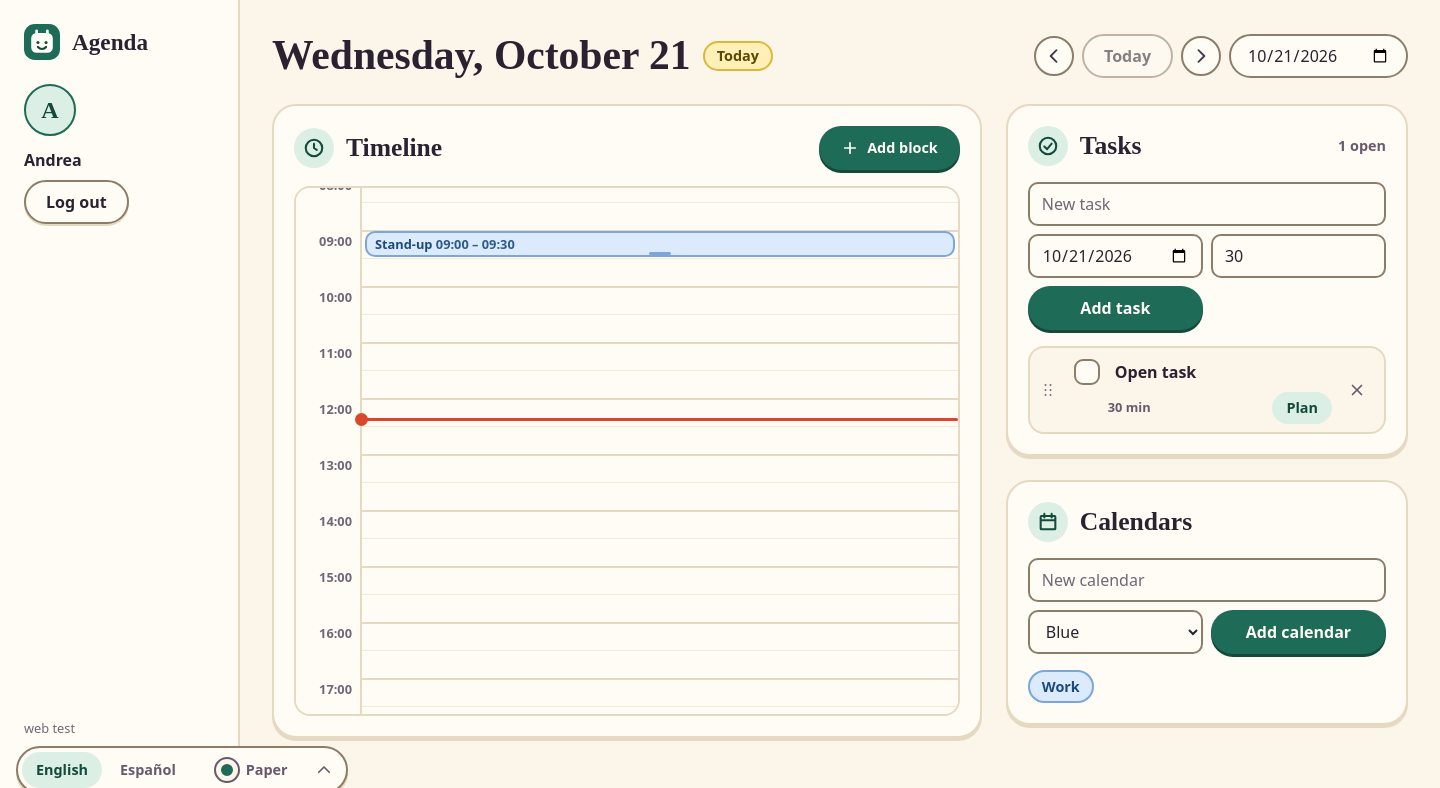
a block leaving › also does when it is deleted from the details panel, and says so
(page scrolled)
Step 1. Click the button "Stand-up 09:00 – 09:30" → (404, 244), box [365,231,955,257]
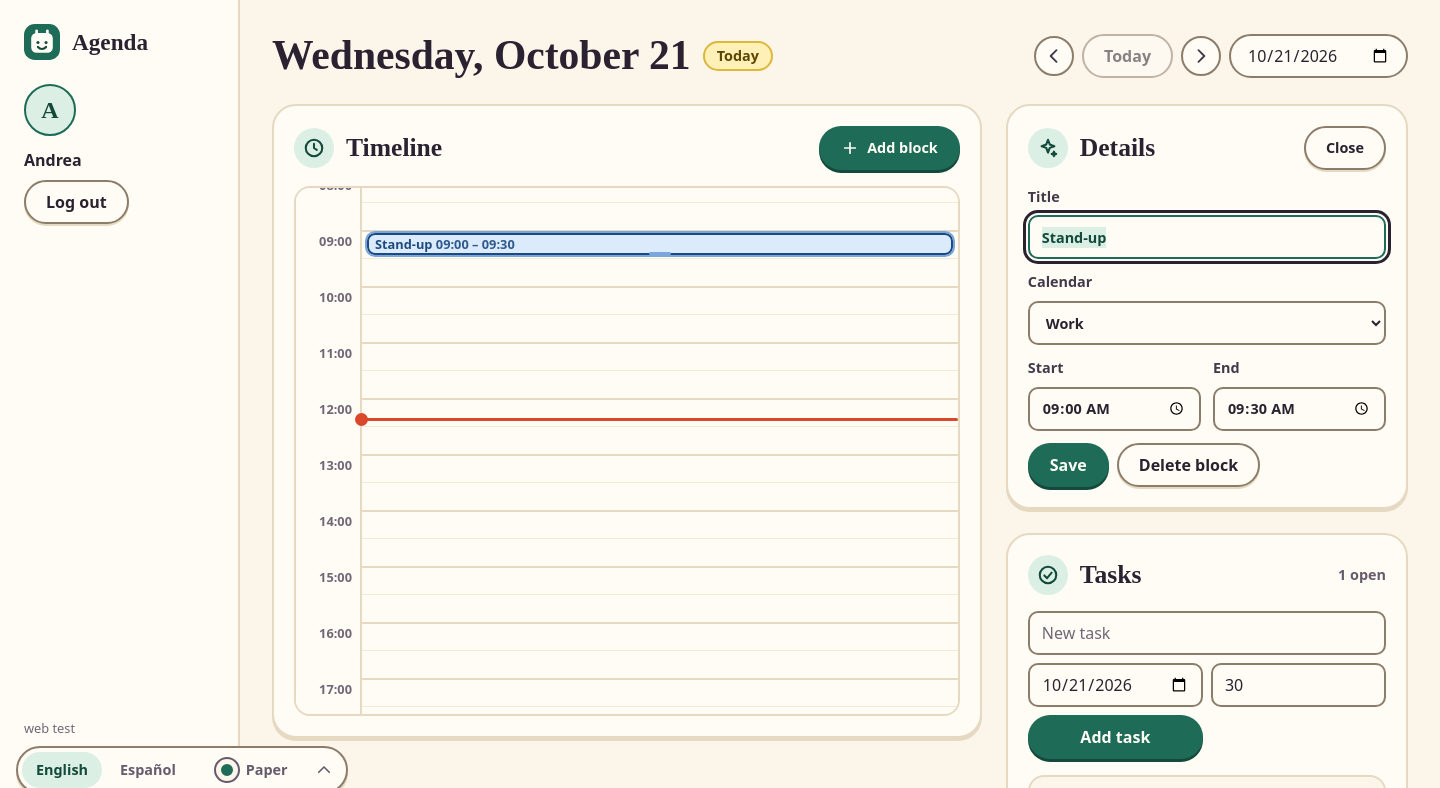
Step 2. Click the button "Delete block" → (1188, 465), box [1117,443,1260,487]
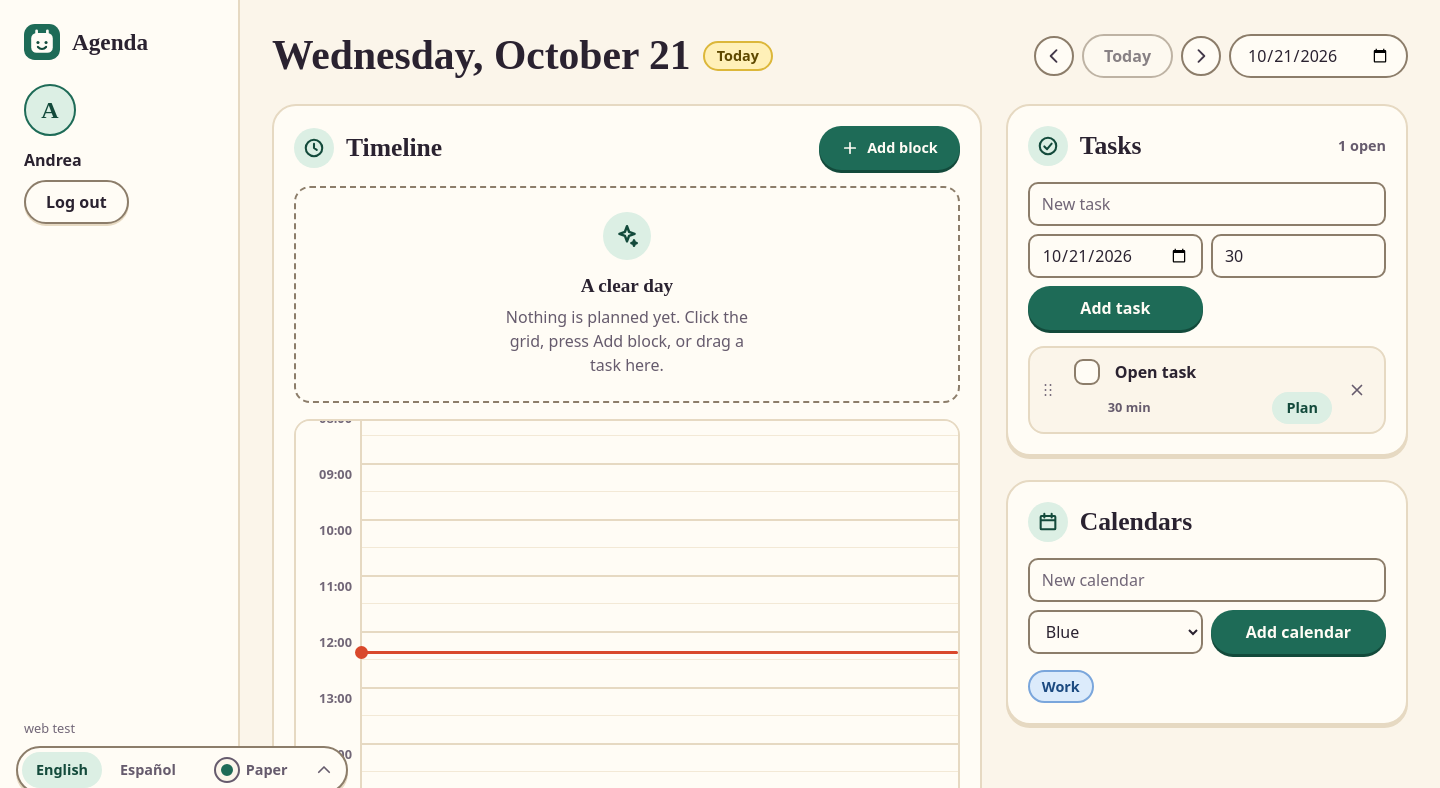
Expected: the button "Stand-up" is gone
